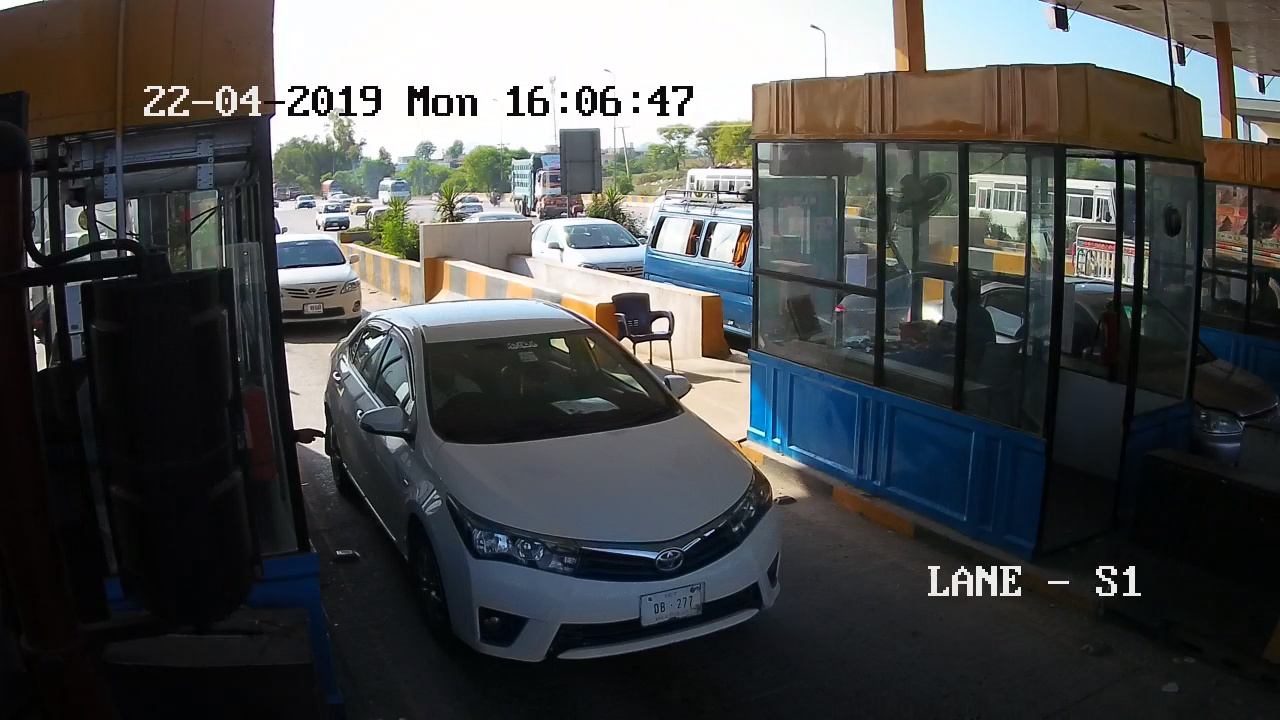Number Plate (Car): (637, 584, 702, 622), (300, 301, 326, 313)
